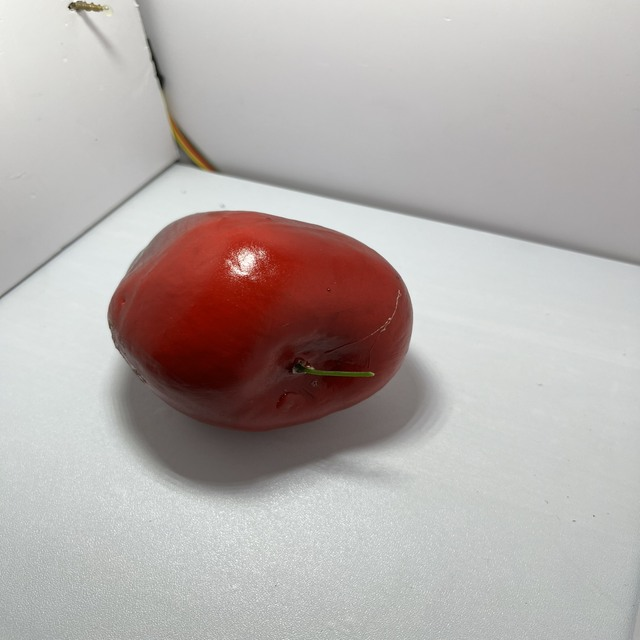Tao: (106, 206, 416, 439)
